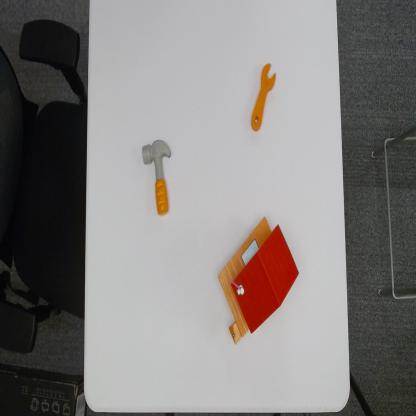Hammer: (141, 138, 171, 216)
House: (218, 215, 300, 347)
Screwdriver: (251, 61, 277, 130)
